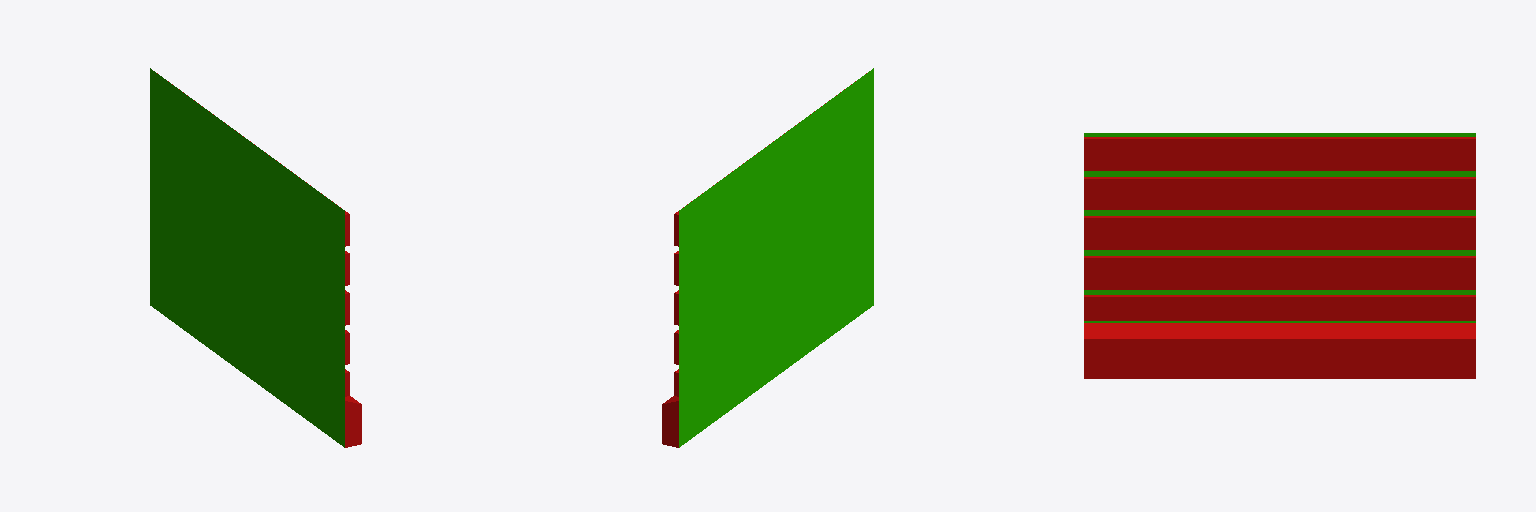
The model's file is NY_wall.obj.
The picture shows the model from 3 angles: view 1: azimuth 30°, elevation 25°; view 2: azimuth 150°, elevation 25°; view 3: azimuth 270°, elevation 25°; orthographic projection.
Parts seen in each view (by area): view 1: A_EXPO.obj.001; view 2: A_EXPO.obj.001; view 3: A_EXPO.obj.001.
Part boxes in pixels (left/top/right/bottom): A_EXPO.obj.001: left=150, top=68, right=361, bottom=447; A_EXPO.obj.001: left=662, top=68, right=873, bottom=447; A_EXPO.obj.001: left=1084, top=133, right=1475, bottom=378.
Bounding box in the file's own units: 0.1501 × 2.01 × 3.